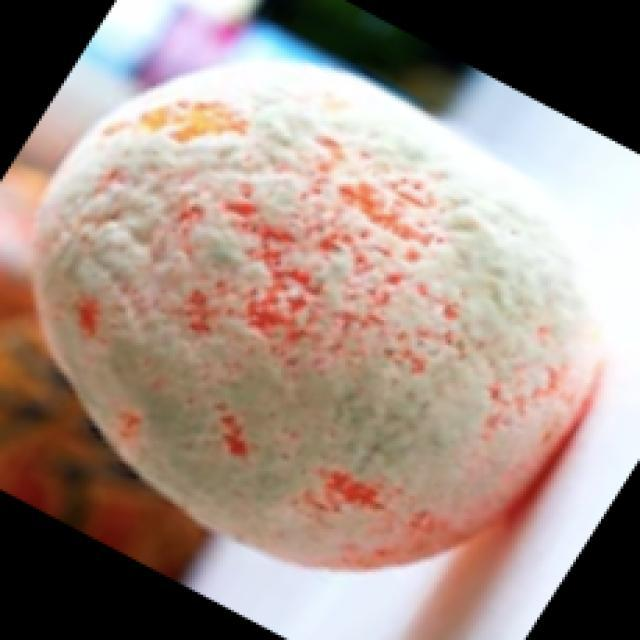sangat-busuk: (34, 60, 598, 569)
